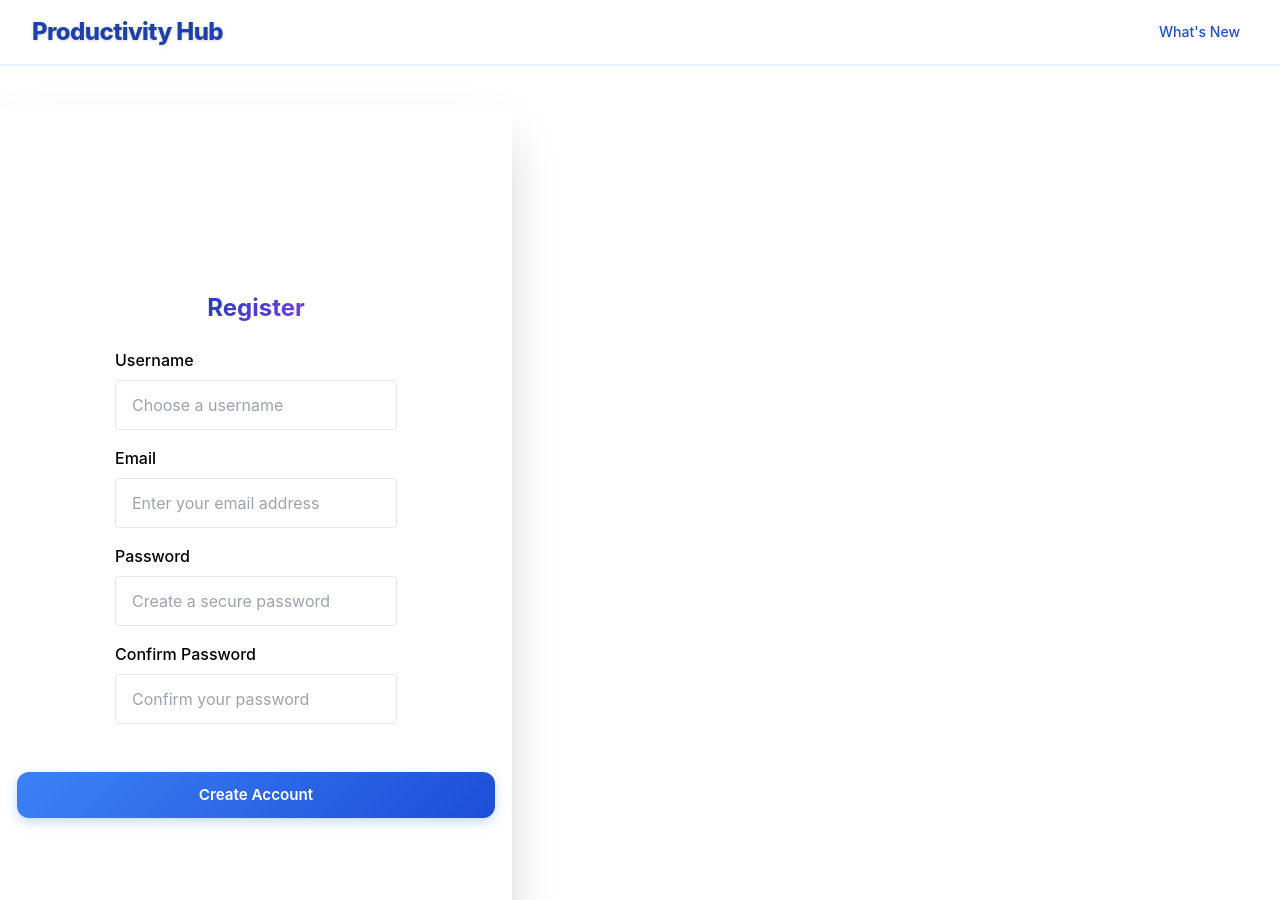
Test: RegisterPage › Form Validation › shows error when passwords do not match
The image size is (1280, 900).
Type "testuser" into the field labelled "Username" at (256, 405), box left=115, top=380, right=397, bottom=430
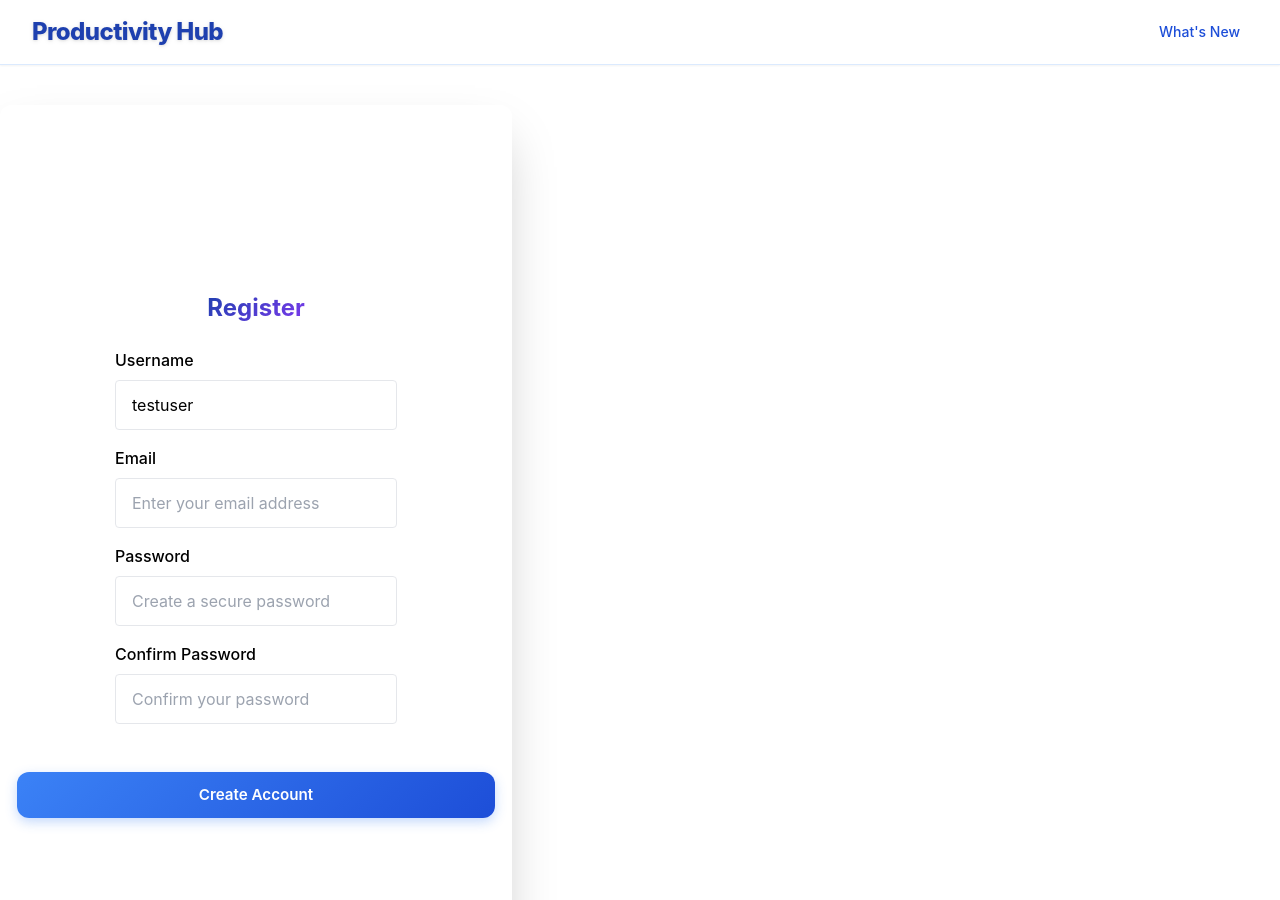
Type "test@example.com" into the field labelled "Email" at (256, 503), box left=115, top=478, right=397, bottom=528
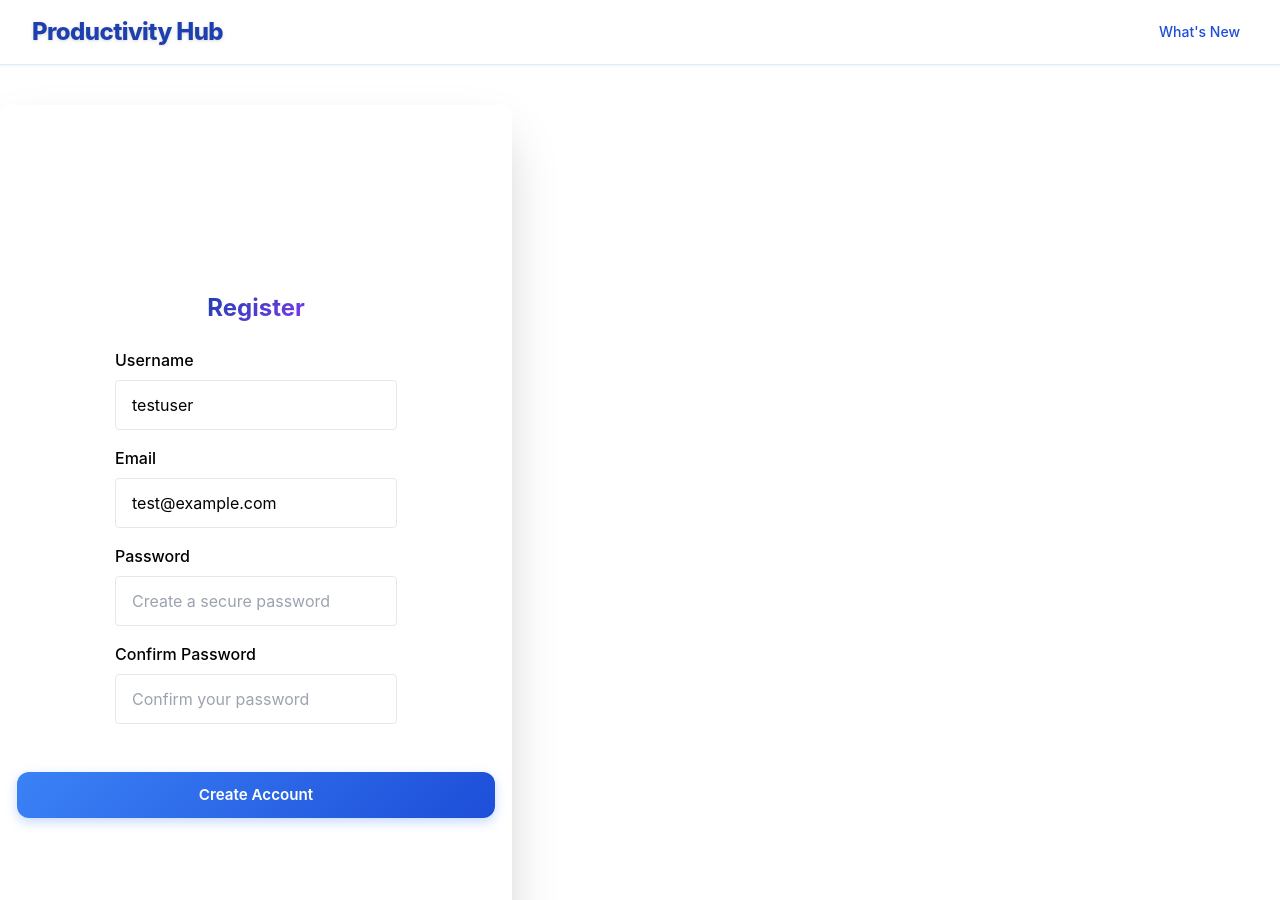
Type "password123" into the password field labelled "Password" at (256, 601), box left=115, top=576, right=397, bottom=626
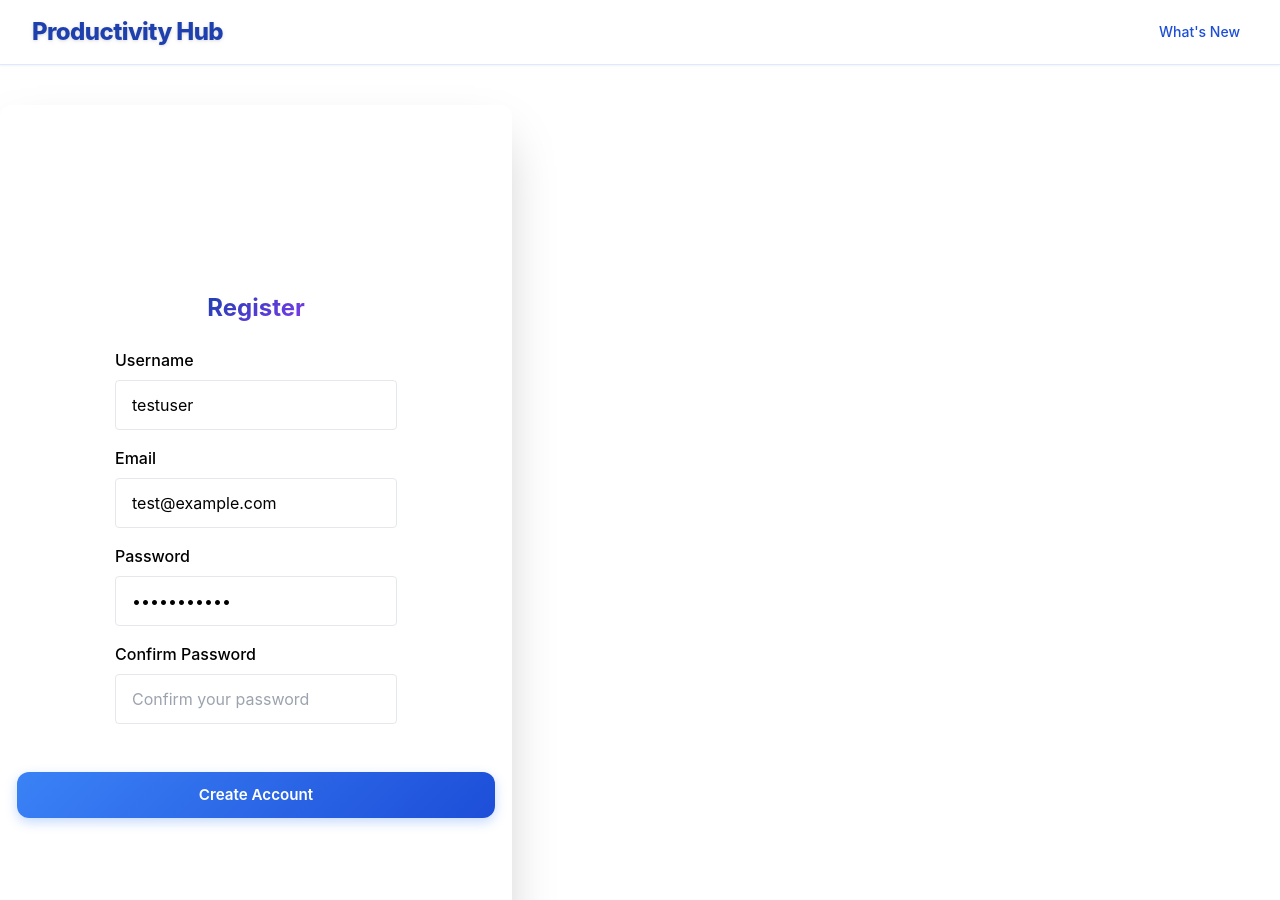
Type "differentpassword" into the password field labelled "Confirm Password" at (256, 699), box left=115, top=674, right=397, bottom=724
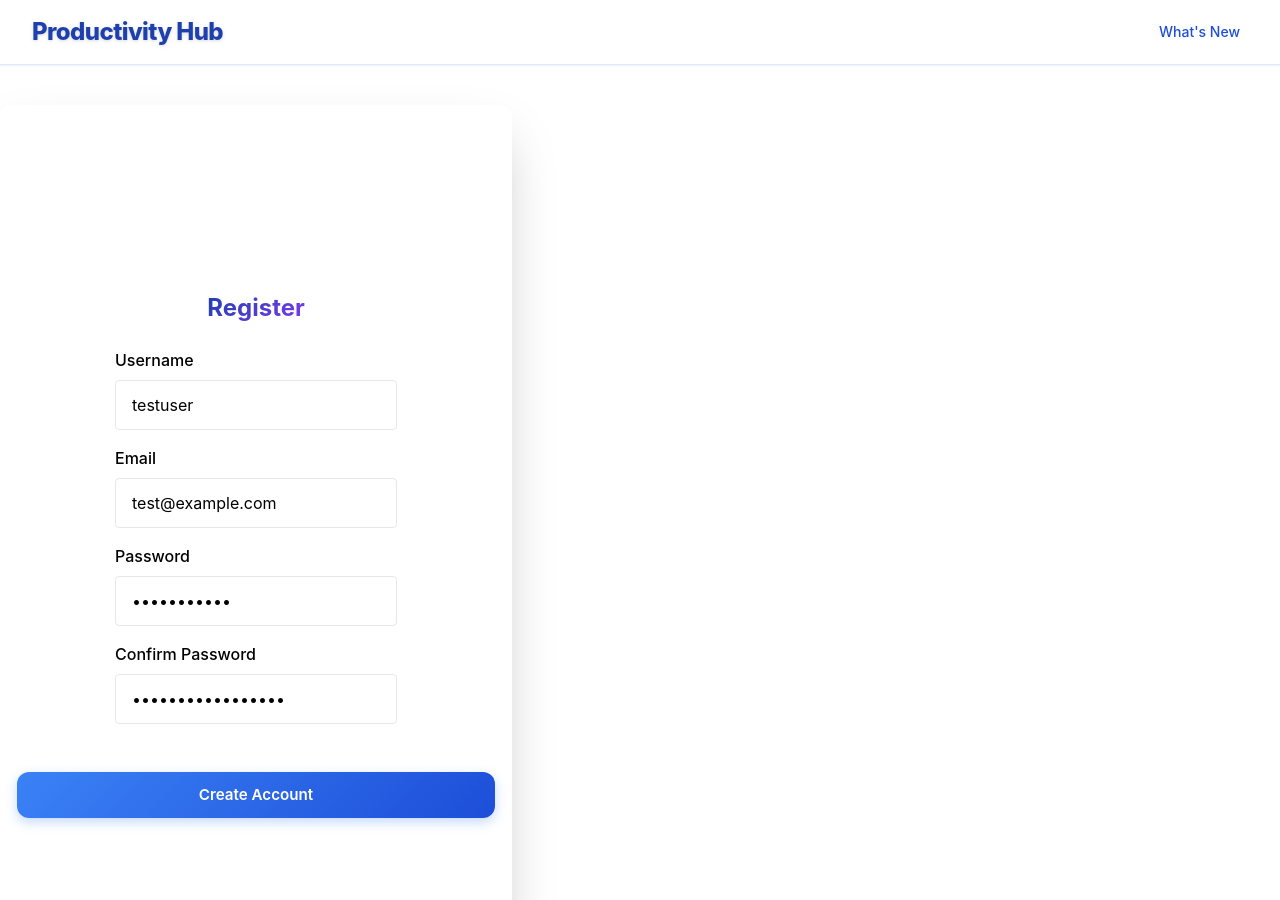
Click the button "Create Account" at (256, 795), box left=17, top=772, right=495, bottom=818
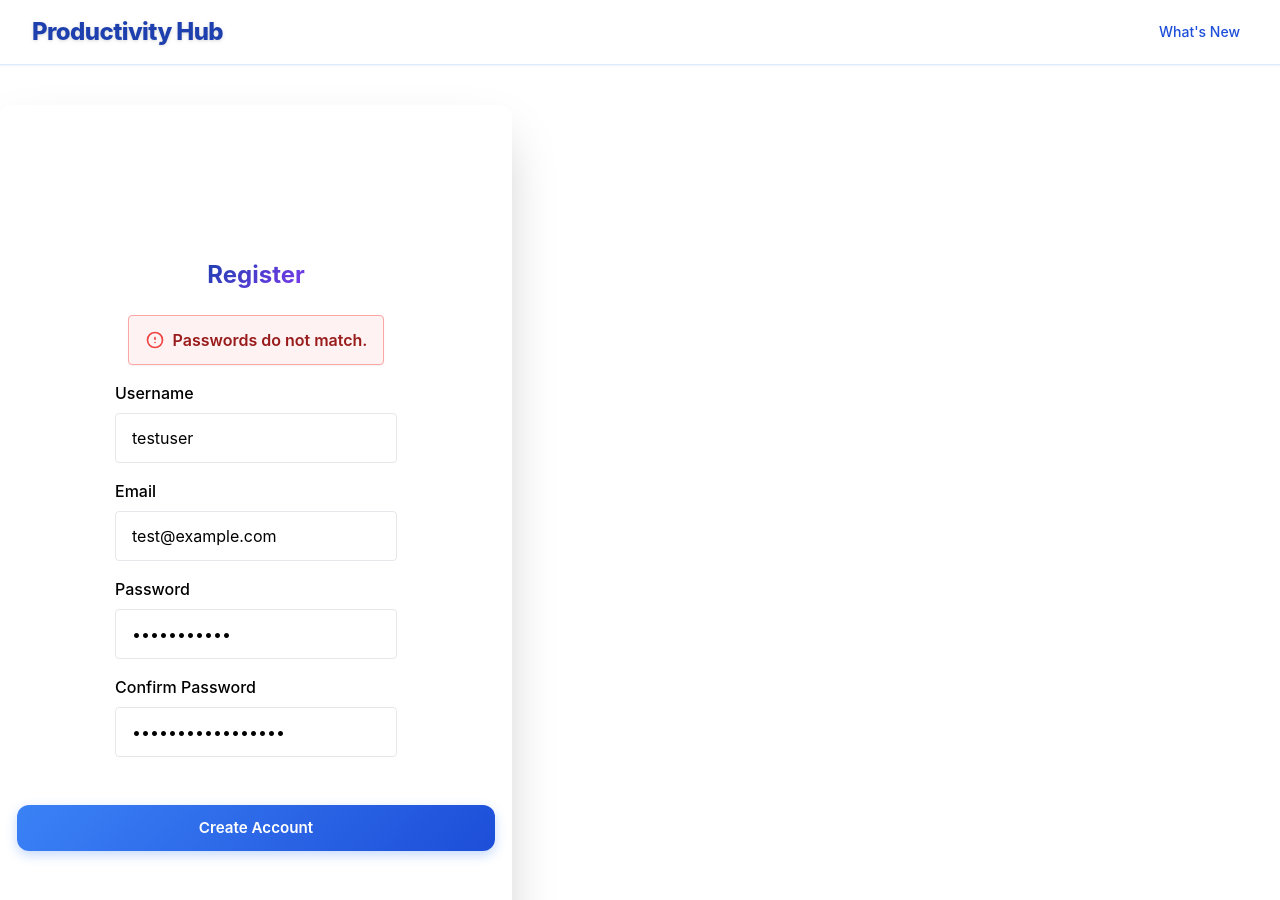
Expected: the text "Passwords do not match." is shown, left=172, top=328, right=368, bottom=352
